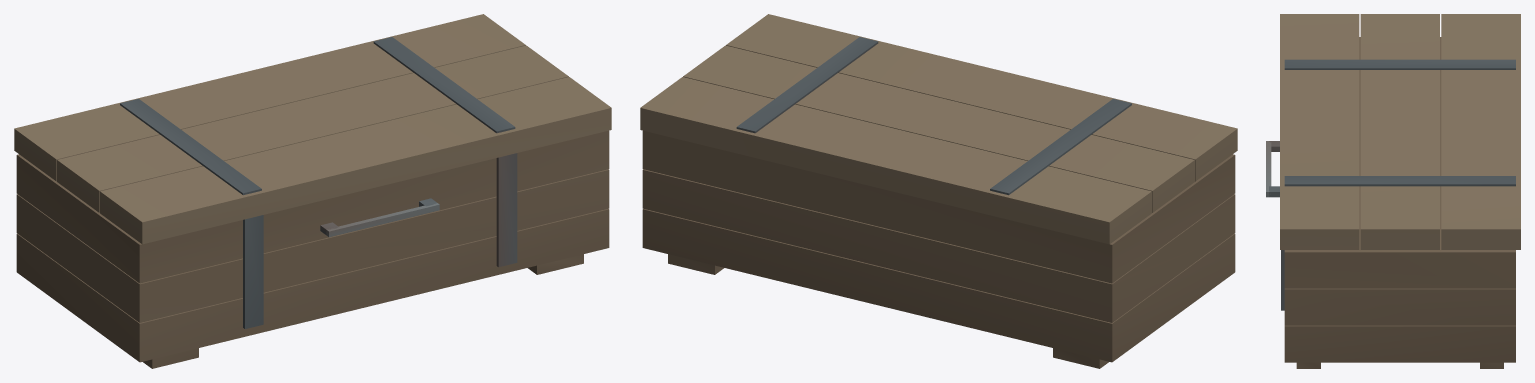
The model's file is blanket_chest.glb.
3 renders of one model, left to right at view 1: azimuth 30°, elevation 25°; view 2: azimuth 150°, elevation 25°; view 3: azimuth 270°, elevation 25°, orthographic. The views are drawn at different scales.
Parts seen in each view (by area): view 1: blanket_chest; view 2: blanket_chest; view 3: blanket_chest.
Boxes of the visible parts, bbox=[...] form: blanket_chest: bbox=[14, 14, 611, 368]; blanket_chest: bbox=[640, 14, 1237, 368]; blanket_chest: bbox=[1266, 14, 1520, 368].
Size of the model in its own units: 2 by 0.65 by 1.
